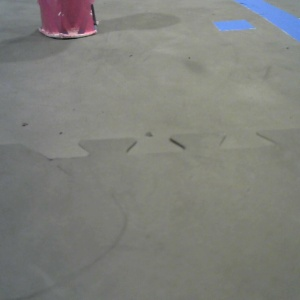middle: (26, 1, 105, 69)
